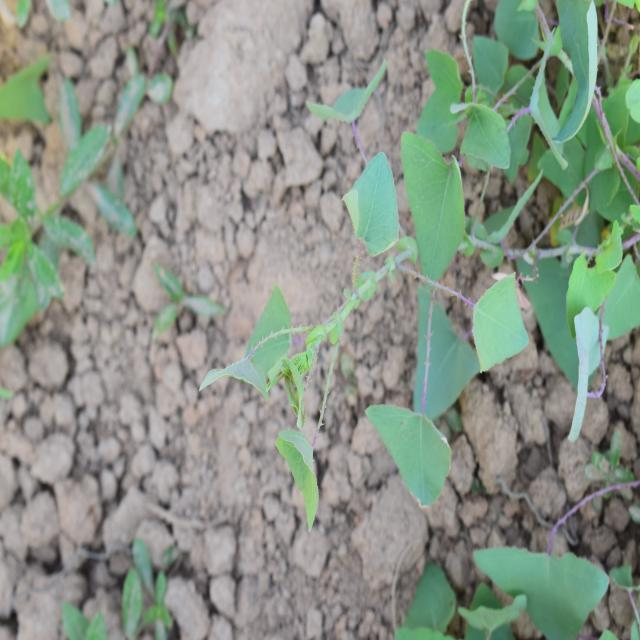Asiatic_Smartweed: (224, 110, 512, 519)
